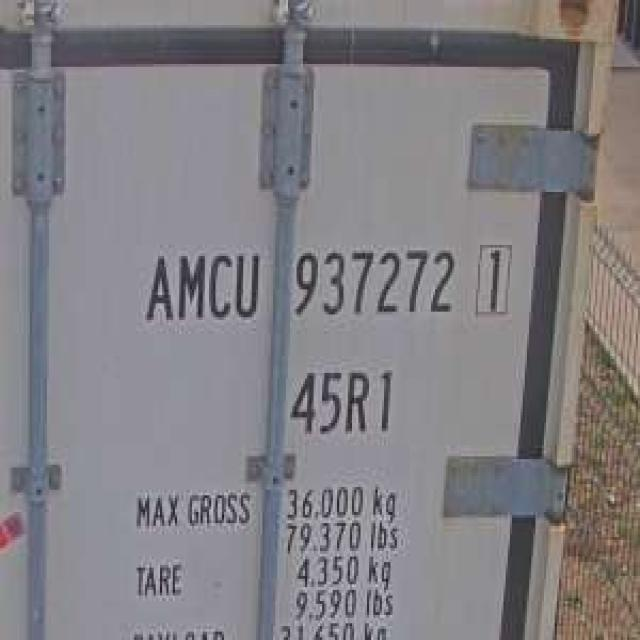dv: (473, 242, 516, 321)
owner: (142, 240, 264, 328)
serial: (289, 242, 456, 322)
size: (284, 360, 410, 440)
